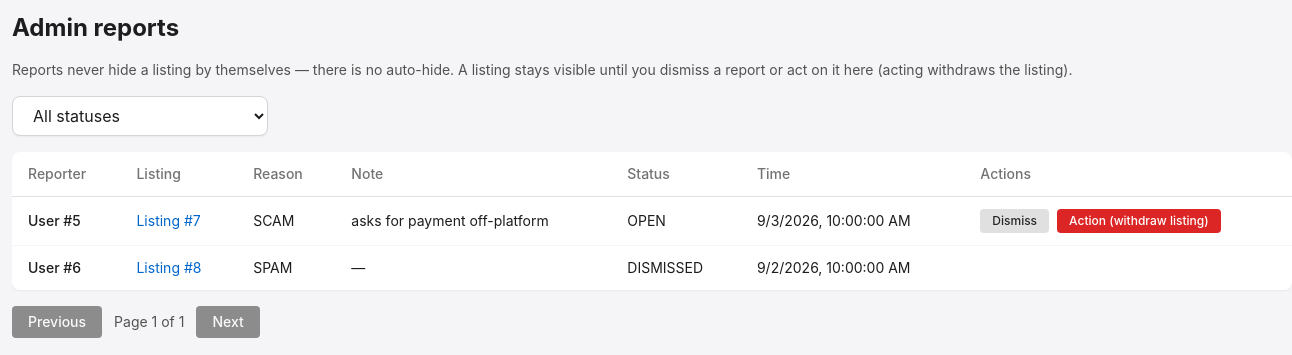
Test: AdminReportsPage › the status filter is URL-synced and sent to the API
Expected: the cell "DISMISSED" is shown, [611,246,741,290]
Select "OPEN" in the dropdown named "filter by status" at (140, 116), box [12,96,268,136]
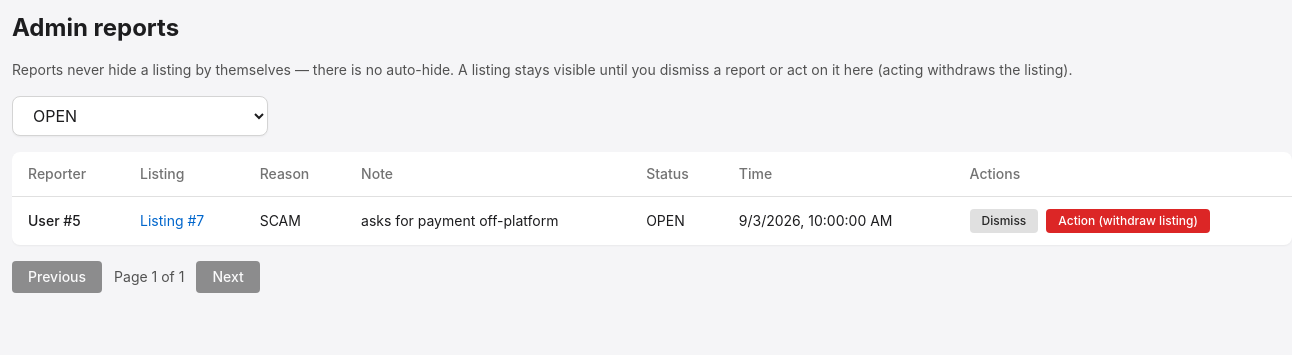
Expected: the cell "DISMISSED" is gone
